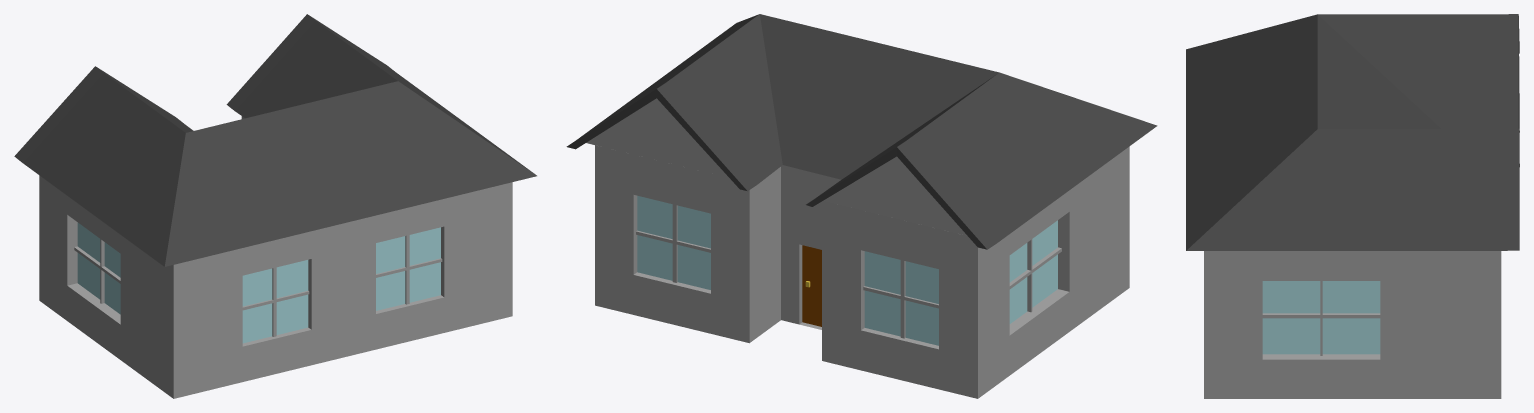
The model's file is UHouse.gltf.
3 views of the same model, side by side, from view 1: azimuth 30°, elevation 25°; view 2: azimuth 150°, elevation 25°; view 3: azimuth 270°, elevation 25° (orthographic). The views are drawn at different scales.
Visible parts, largest first — view 1: U-Shape; view 2: U-Shape; view 3: U-Shape.
Part boxes in pixels (x1,y1,x2,y2): U-Shape: (14,14,536,398); U-Shape: (566,14,1157,398); U-Shape: (1186,14,1519,398).
Size of the model in its own units: 19.26 by 10.52 by 13.47.
